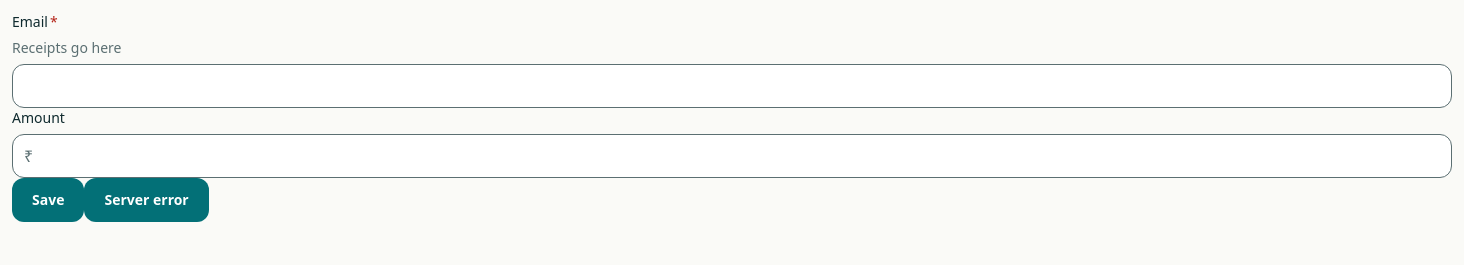
FormField with React Hook Form and zod › shows server field errors on the matching field and reports the rest
Click the button "Server error".
click(147, 200)  # box [84,178,209,222]
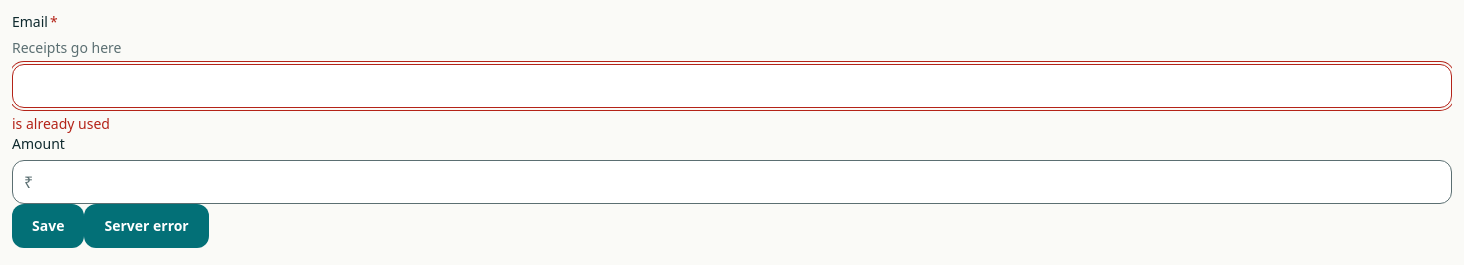
Result: the text "is already used" is shown at [12,114,110,133]
